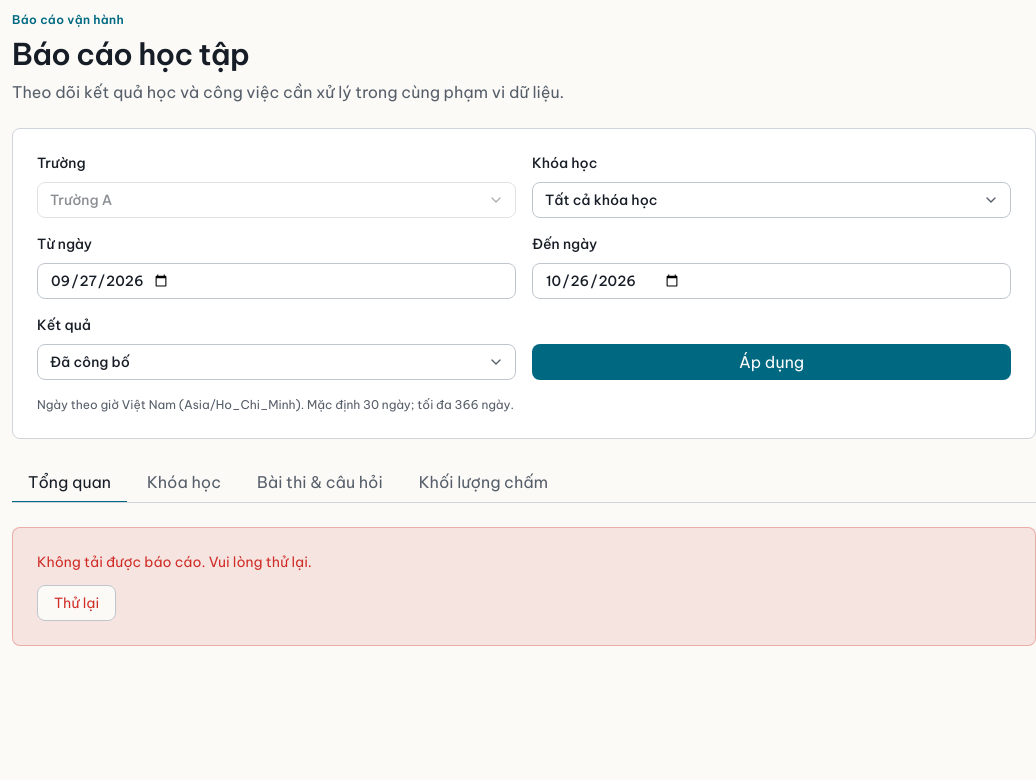
shows errors with retry instead of fabricating empty results
Check: the message "Không tải được báo cáo. Vui lòng thử lại. Thử lại" is shown, box [12,527,1035,646]
Check: the text "0%" is not shown
Click the button "Thử lại": [77, 603] box [37,585,116,621]
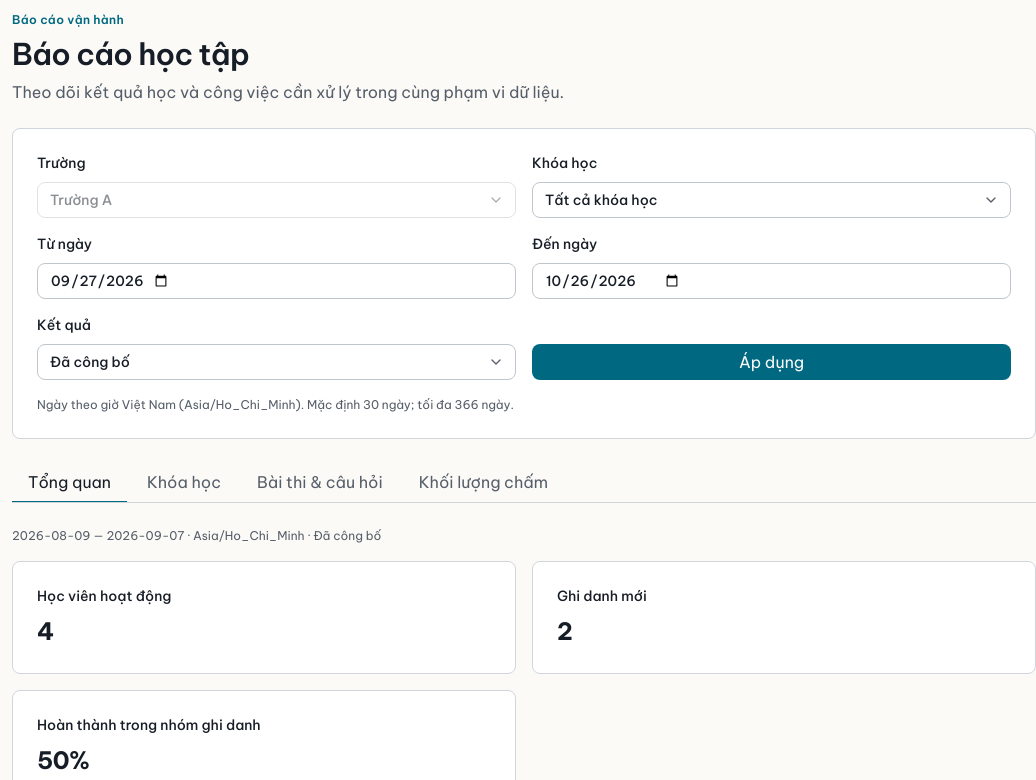
Check: the message "Không tải được báo cáo. Vui lòng thử lại. Thử lại" is gone
